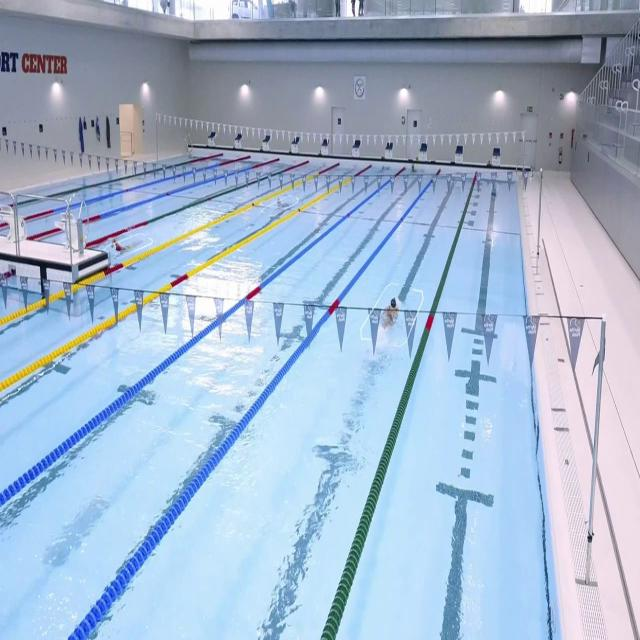Swimming: (379, 298, 401, 332), (111, 237, 143, 259), (276, 197, 290, 211)
